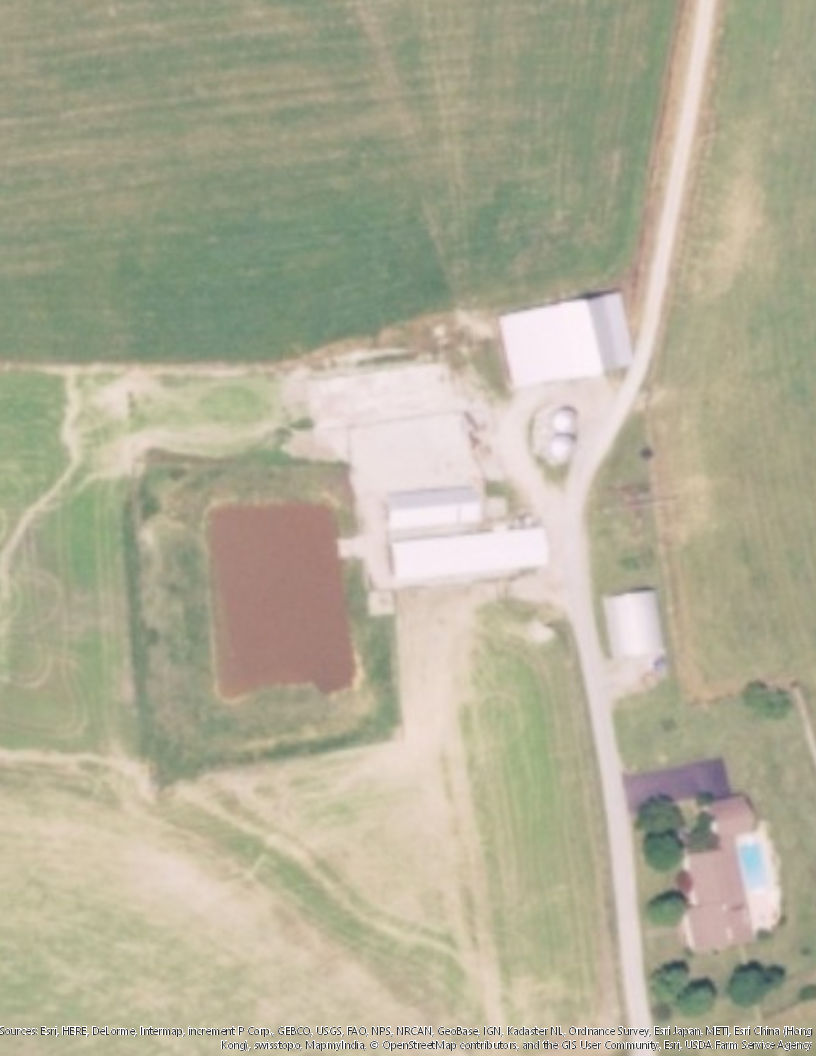cafo: (492, 285, 645, 388), (381, 526, 554, 581), (592, 585, 674, 666), (381, 486, 493, 530)
